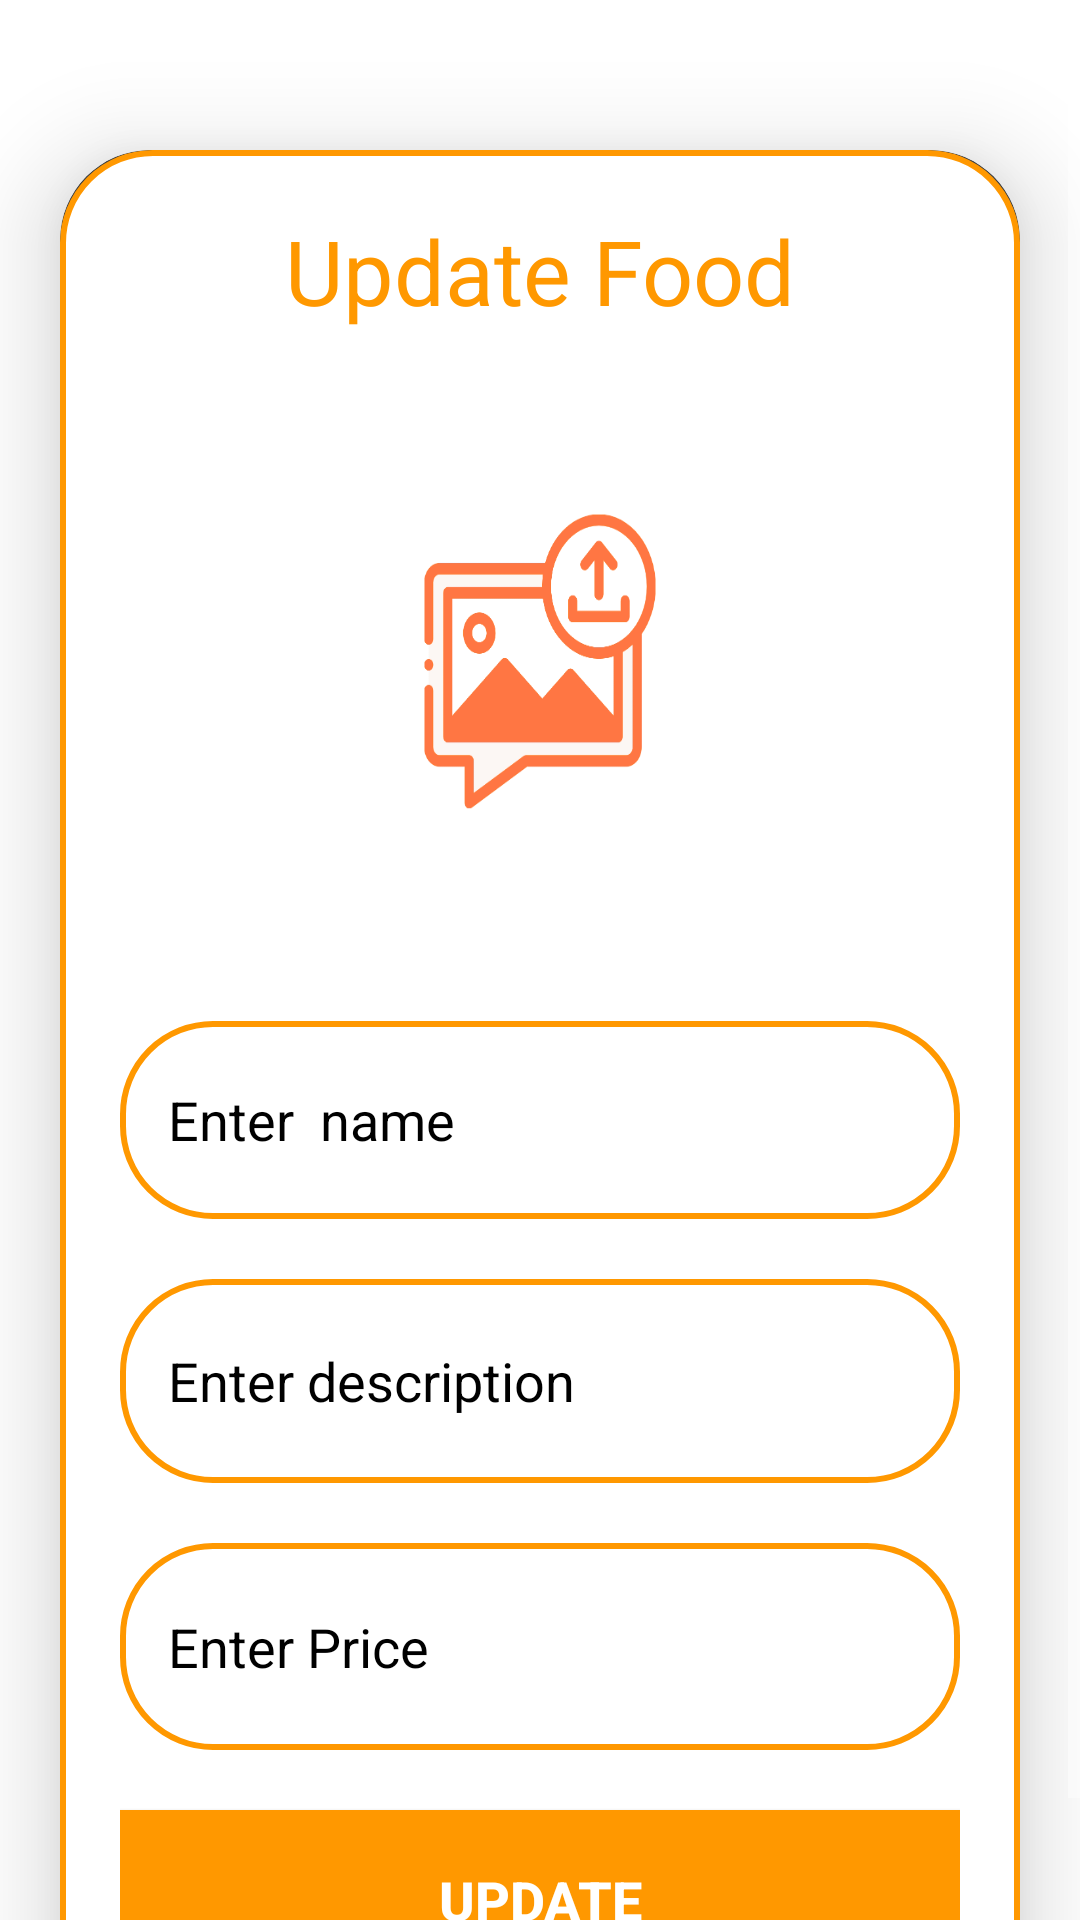

Where icons sit on this 1080px×1920px app screen, as [x1,y1,x2,y2]:
uploadimg: [424,514,656,809]
